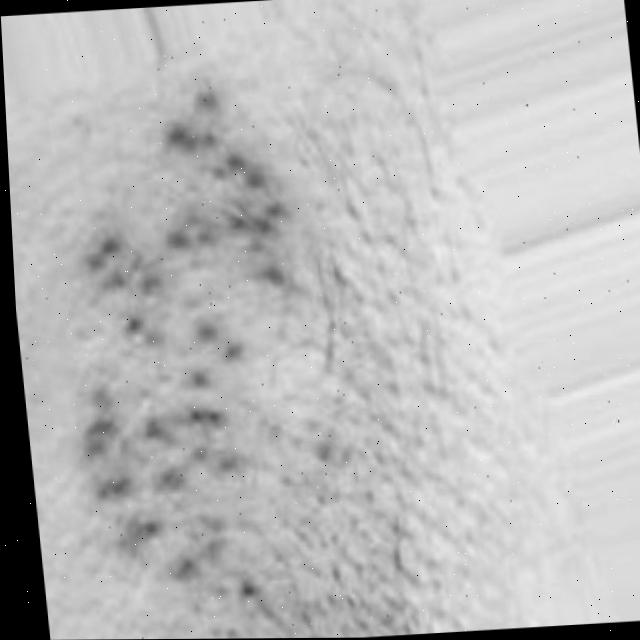Shingles: (52, 101, 335, 598)
